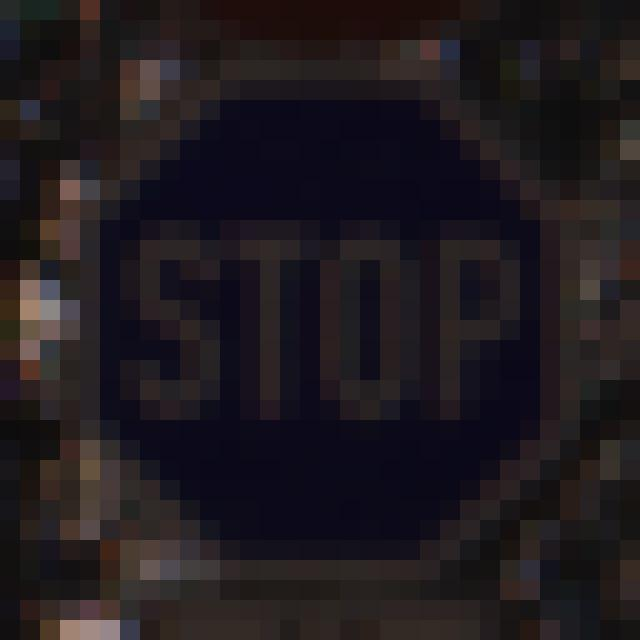STOP: (74, 62, 592, 586)
